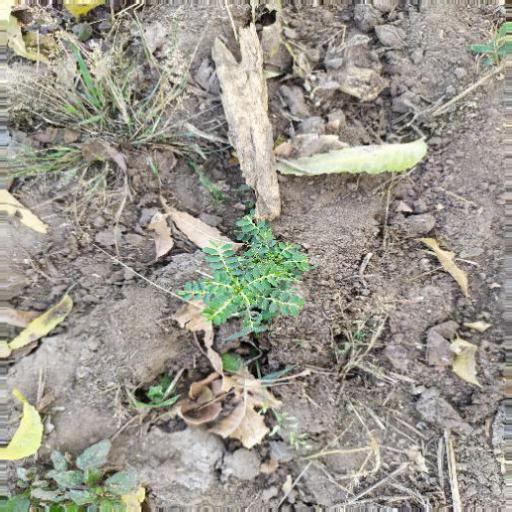weed: (9, 30, 232, 174), (151, 209, 317, 346), (6, 436, 144, 512)
